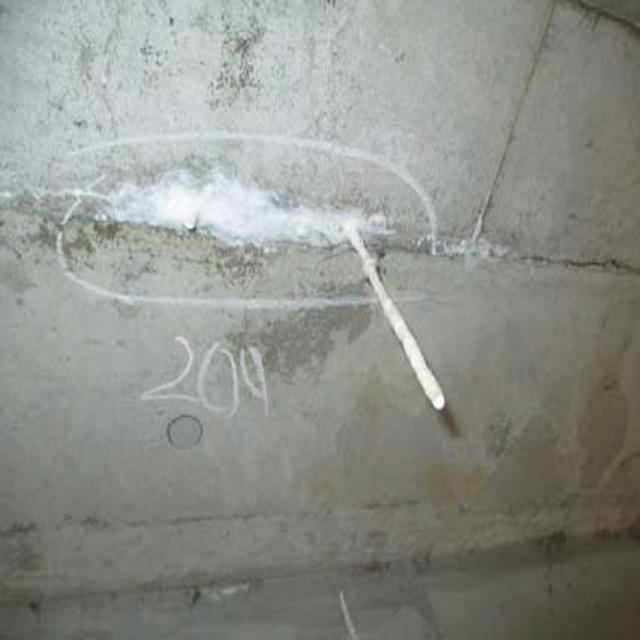freelime: (90, 164, 384, 269)
